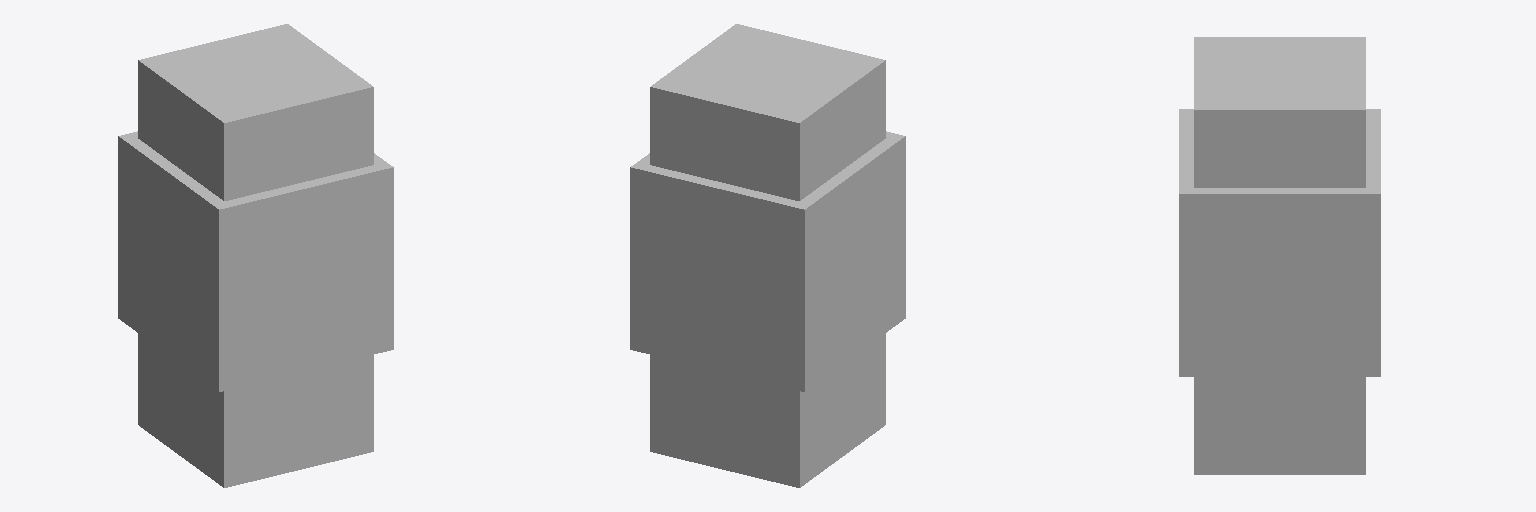
File: flarestack.obj
3 views of the same model, side by side, from view 1: azimuth 30°, elevation 25°; view 2: azimuth 150°, elevation 25°; view 3: azimuth 270°, elevation 25° (orthographic).
Parts seen in each view (by area): view 1: flarestack; view 2: flarestack; view 3: flarestack.
Part boxes in pixels (left/top/right/bottom): flarestack: left=118, top=24, right=393, bottom=487; flarestack: left=630, top=24, right=905, bottom=487; flarestack: left=1179, top=37, right=1380, bottom=474.
Bounding box in the file's own units: 0.875 × 1.75 × 0.875.